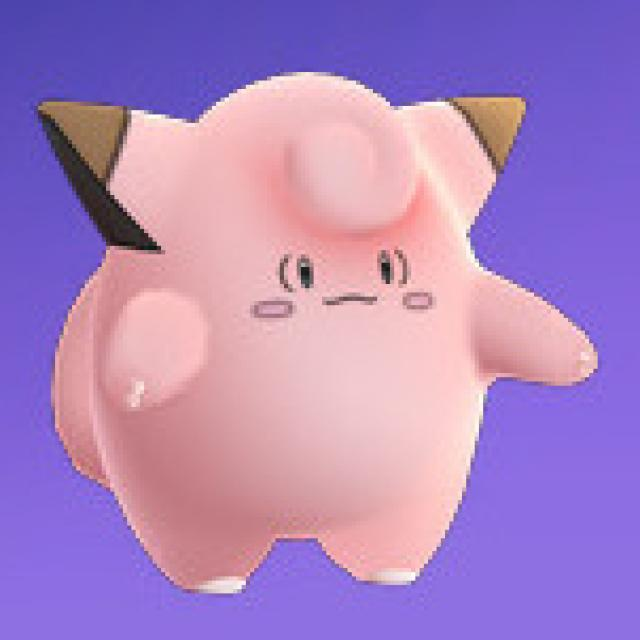Clefairy: (49, 79, 533, 585)
